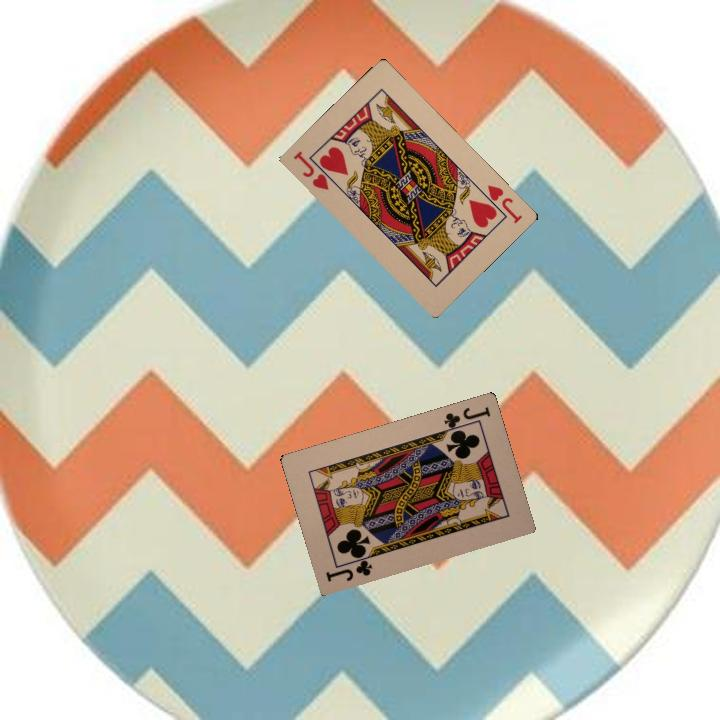Jc: (322, 551, 375, 584), (440, 403, 493, 435)
Jh: (289, 147, 339, 193), (477, 181, 525, 226)
